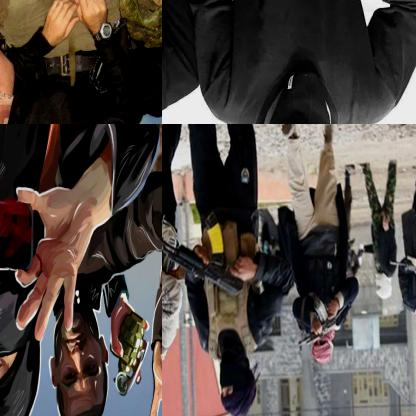rifle: (162, 210, 246, 296), (293, 296, 347, 353), (162, 236, 189, 293), (387, 245, 415, 277)
